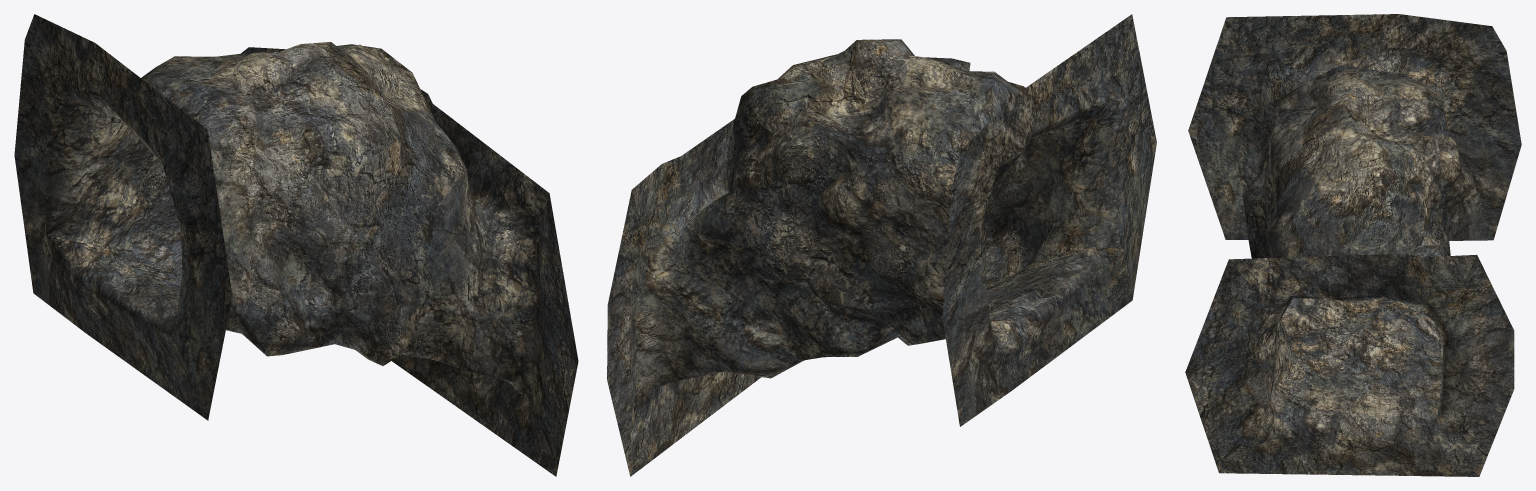
Rendered from Module4.fbx.
The picture shows the model from 3 angles, left to right: view 1: azimuth 30°, elevation 25°; view 2: azimuth 150°, elevation 25°; view 3: azimuth 270°, elevation 25°; orthographic projection. The views are drawn at different scales.
Visible parts, largest first — view 1: cave_el4_800_Group49486; view 2: cave_el4_800_Group49486; view 3: cave_el4_800_Group49486.
Part boxes in pixels (x1,y1,x2,y2): cave_el4_800_Group49486: (14,14,578,476); cave_el4_800_Group49486: (607,14,1156,476); cave_el4_800_Group49486: (1185,14,1521,476).
Size of the model in its own units: 10.91 by 12.14 by 11.06.
